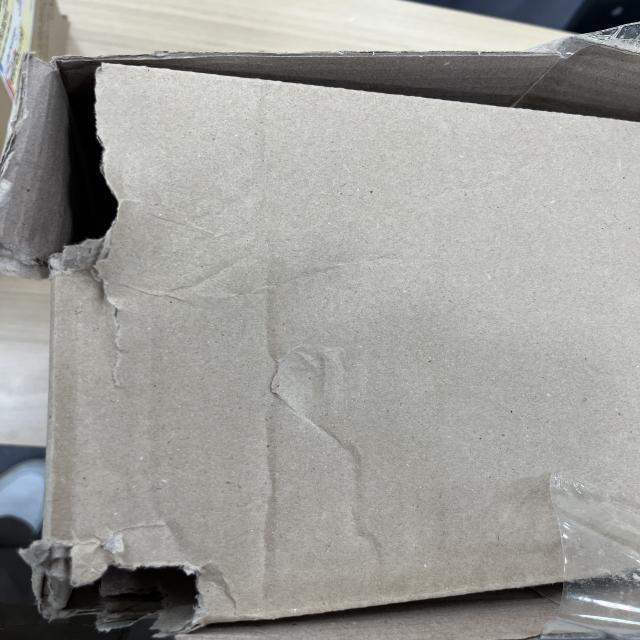hole: (45, 52, 145, 292), (37, 534, 213, 640)
